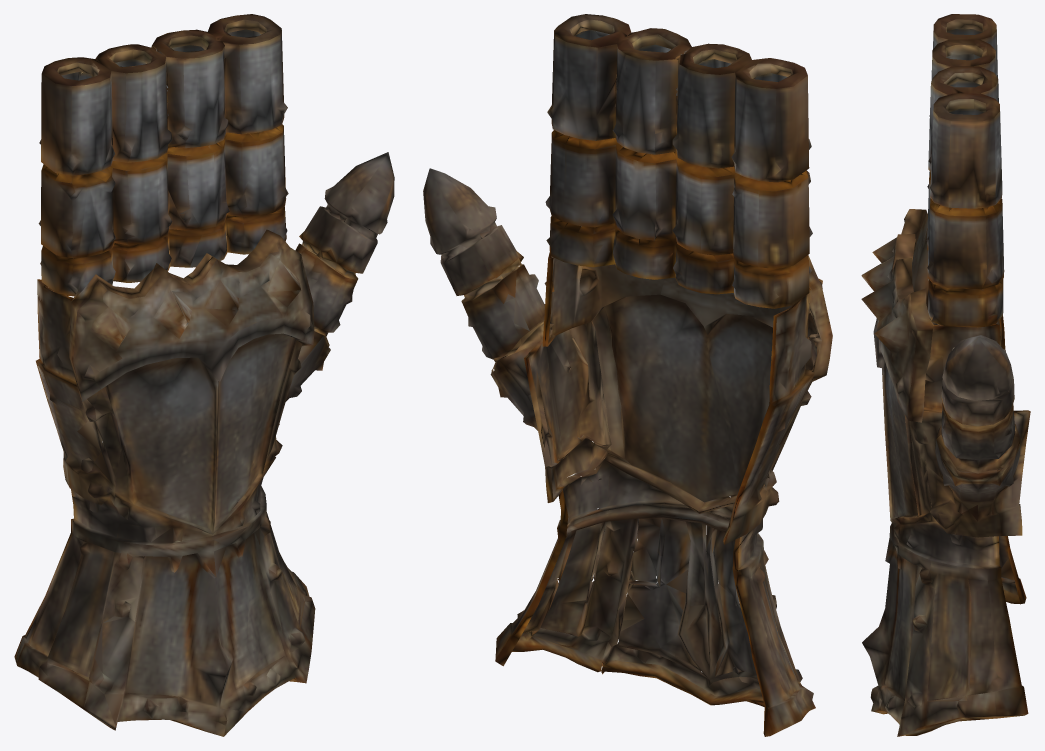
The model's file is gauntlet-plate-15k-v1.glb.
3 renders of one model, left to right at view 1: azimuth 30°, elevation 25°; view 2: azimuth 150°, elevation 25°; view 3: azimuth 270°, elevation 25°, orthographic. The views are drawn at different scales.
Visible parts, largest first — view 1: ember-gauntlets-15k-v3; view 2: ember-gauntlets-15k-v3; view 3: ember-gauntlets-15k-v3.
Boxes of the visible parts, box(x1,y1,x2,y2) form: ember-gauntlets-15k-v3: box(14, 14, 394, 736); ember-gauntlets-15k-v3: box(423, 14, 832, 736); ember-gauntlets-15k-v3: box(861, 14, 1030, 736).
Bounding box in the file's own units: 0.5803 × 1 × 0.2391.
Materials: 1 (1 with a texture image).
